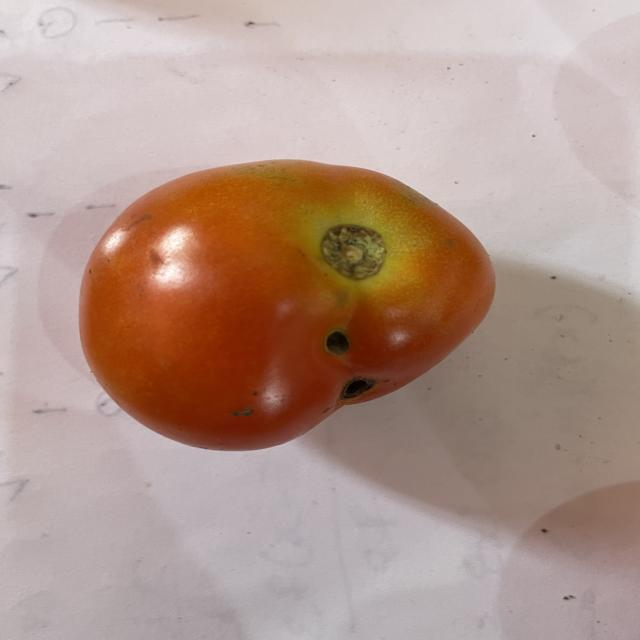fruitworm_bore: (320, 321, 372, 404)
